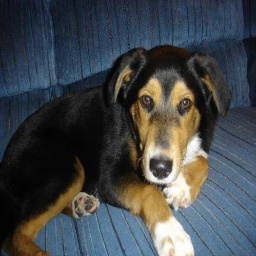dog: (1, 36, 238, 256)
